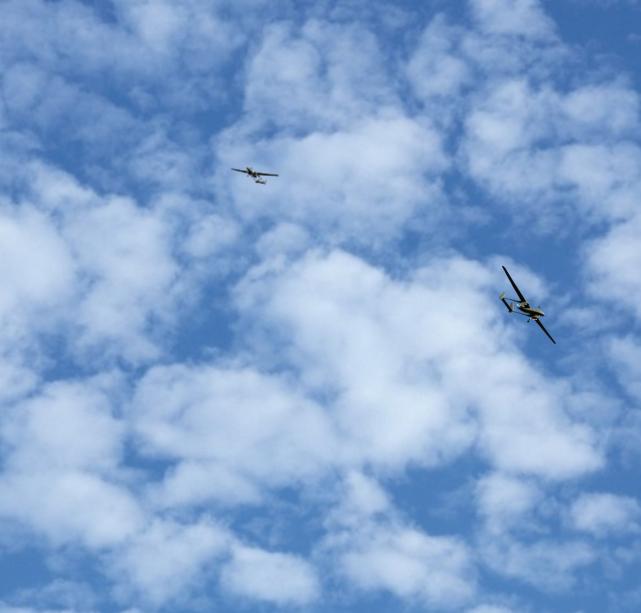military drone: (498, 265, 556, 344), (230, 166, 278, 185)
